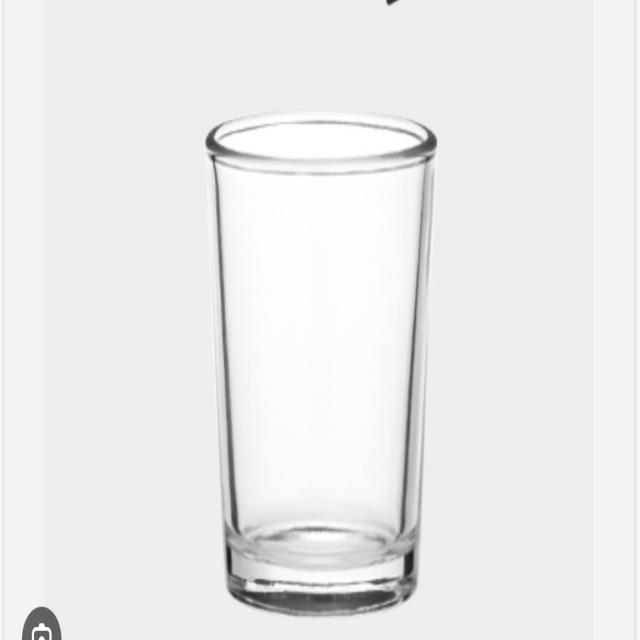recyclable: (194, 96, 446, 618)
